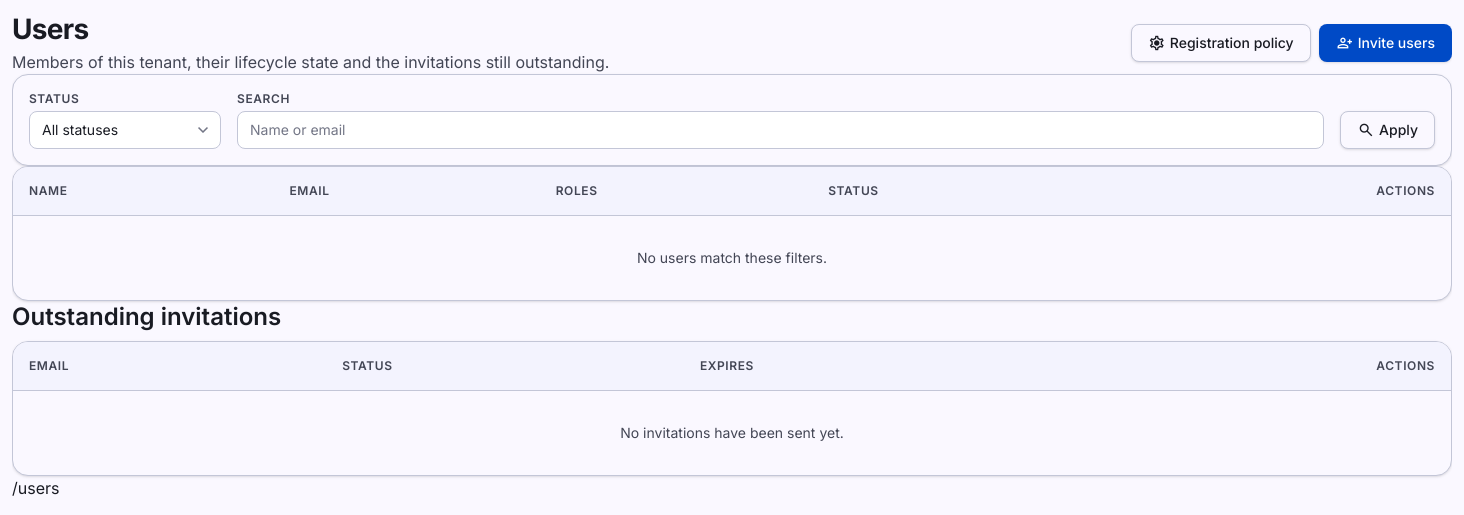
Test case: UsersPage › navigates to the registration policy screen
Click the button "Registration policy" at (1221, 43), box [1131,24,1311,62]
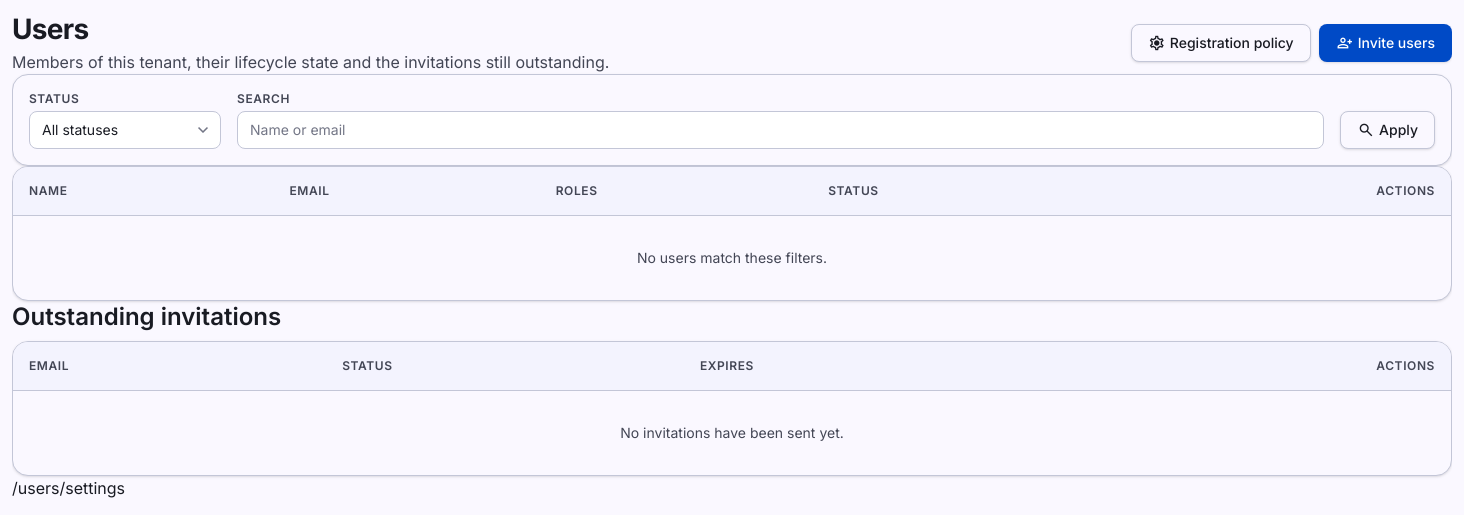
Check: the text with test id "location" reads "/users/settings", box [12,478,125,498]
